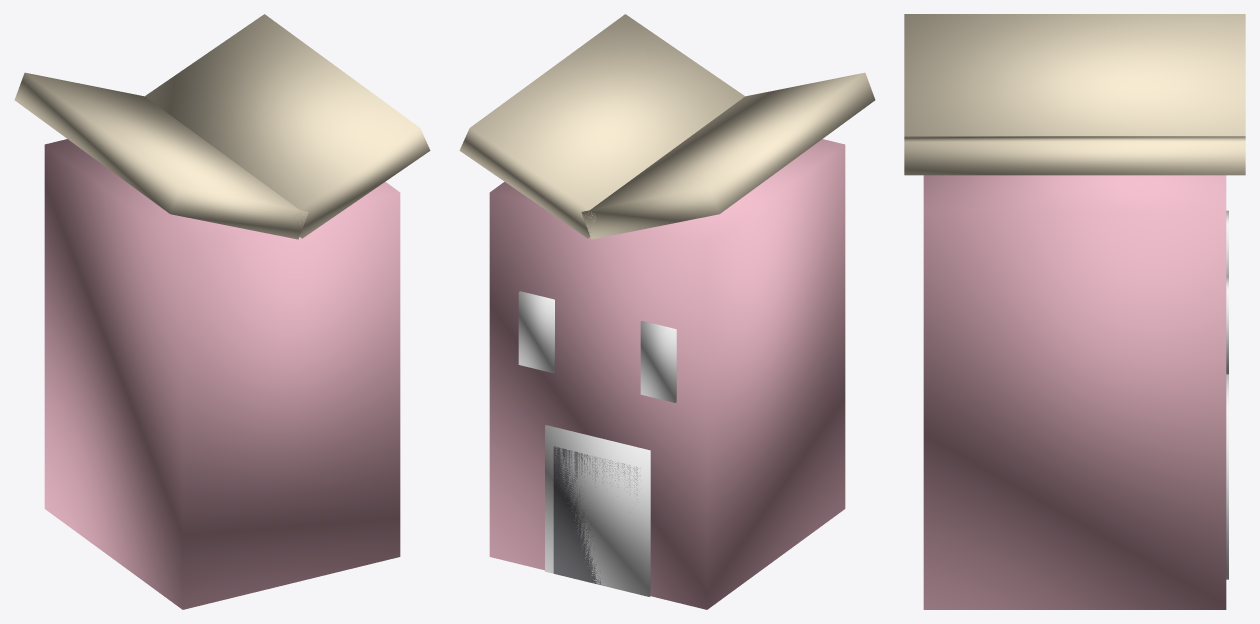
The model's file is phuket_old_town.glb.
3 renders of one model, left to right at view 1: azimuth 30°, elevation 25°; view 2: azimuth 150°, elevation 25°; view 3: azimuth 270°, elevation 25°, orthographic. The views are drawn at different scales.
Parts seen in each view (by area): view 1: building, roof_r, roof_l; view 2: building, roof_r, roof_l, door_frame, door_panel, win_r, win_l; view 3: building, roof_l, roof_r, door_frame.
Boxes of the visible parts, x1,y1,x2,y2 form: building: (44,139,400,609); roof_r: (145,14,430,238); roof_l: (14,72,308,239); building: (489,139,845,609); roof_r: (459,14,744,238); roof_l: (581,72,875,239); door_frame: (545,425,650,596); door_panel: (553,446,640,584); win_r: (518,291,554,373); win_l: (640,321,676,402); building: (923,175,1226,609); roof_l: (904,14,1245,136); roof_r: (904,136,1245,175); door_frame: (1226,374,1228,579).
Bounding box in the file's own units: 0.5981 × 0.9499 × 0.62.
